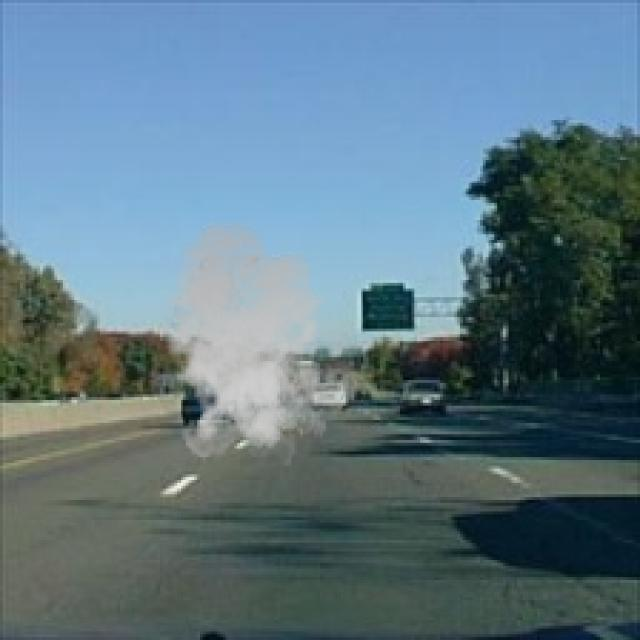smoke: (146, 220, 348, 466)
